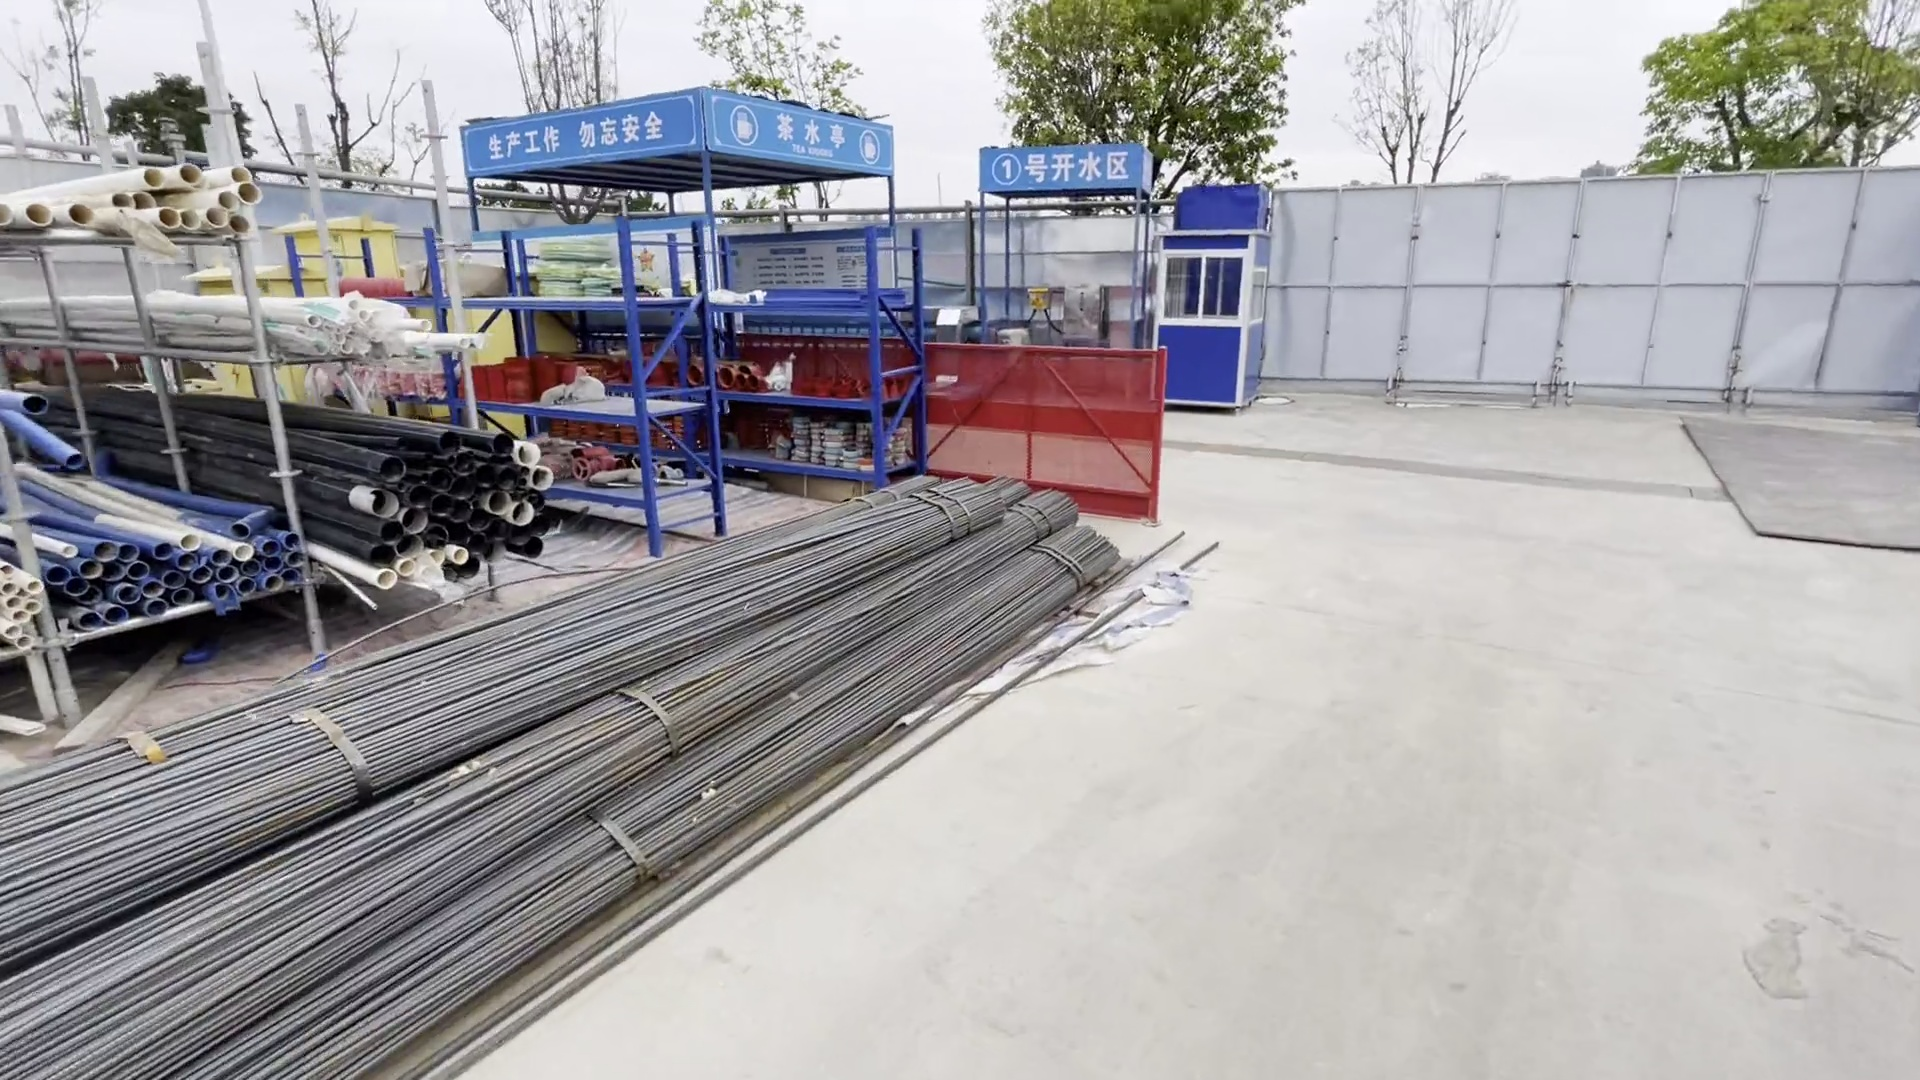ebox: (306, 216, 406, 313), (1017, 290, 1058, 316)
fence: (889, 335, 1191, 469)
rebar: (3, 462, 1131, 1080)
slogan: (469, 112, 669, 164)
